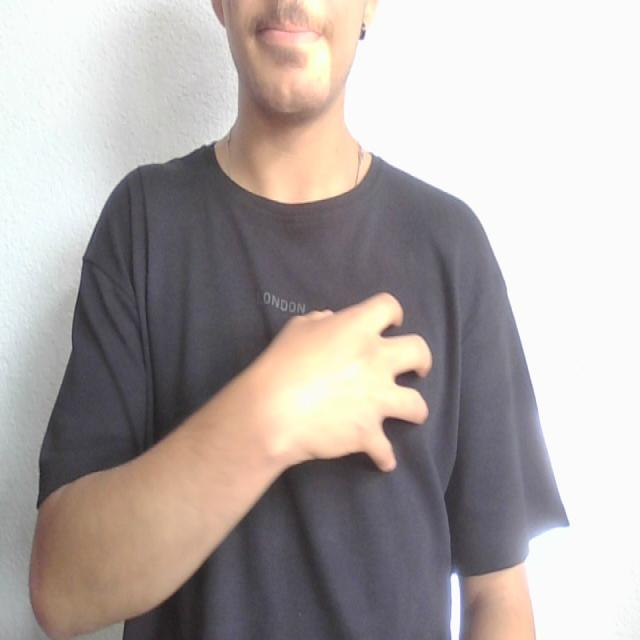Anne: (142, 284, 476, 485)
